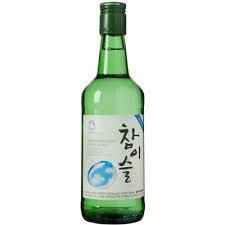soju: (79, 1, 148, 224)
